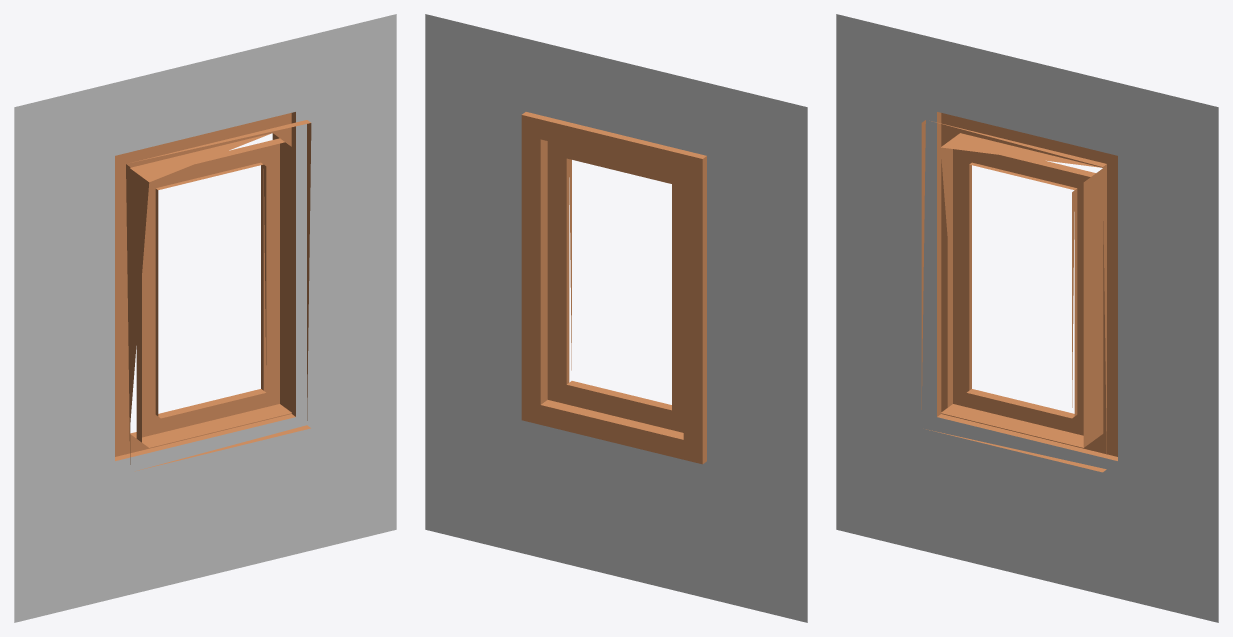
Rendered from mi_ventana.obj.
The picture shows the model from 3 angles, left to right: view 1: azimuth 30°, elevation 25°; view 2: azimuth 150°, elevation 25°; view 3: azimuth 330°, elevation 25°; orthographic projection.
Visible parts, largest first — view 1: wallWindow_wallWindow__defaultMat, wallWindow_wallWindow_wood; view 2: wallWindow_wallWindow__defaultMat, wallWindow_wallWindow_wood; view 3: wallWindow_wallWindow__defaultMat, wallWindow_wallWindow_wood.
Part boxes in pixels (x1,y1,x2,y2): wallWindow_wallWindow__defaultMat: (14,14,396,622); wallWindow_wallWindow_wood: (115,112,311,471); wallWindow_wallWindow__defaultMat: (425,14,807,622); wallWindow_wallWindow_wood: (521,112,706,464); wallWindow_wallWindow__defaultMat: (836,14,1218,622); wallWindow_wallWindow_wood: (921,112,1117,472).
Bounding box in the file's own units: 1 × 1.29 × 0.0891.
